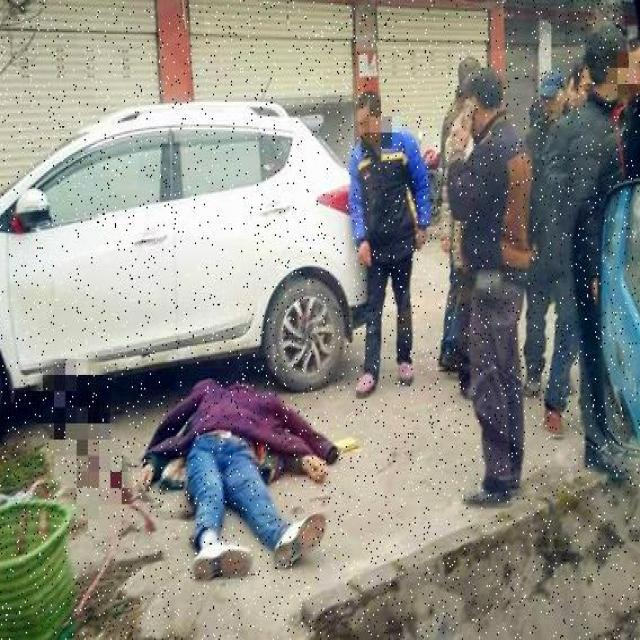fall: (172, 354, 316, 582)
